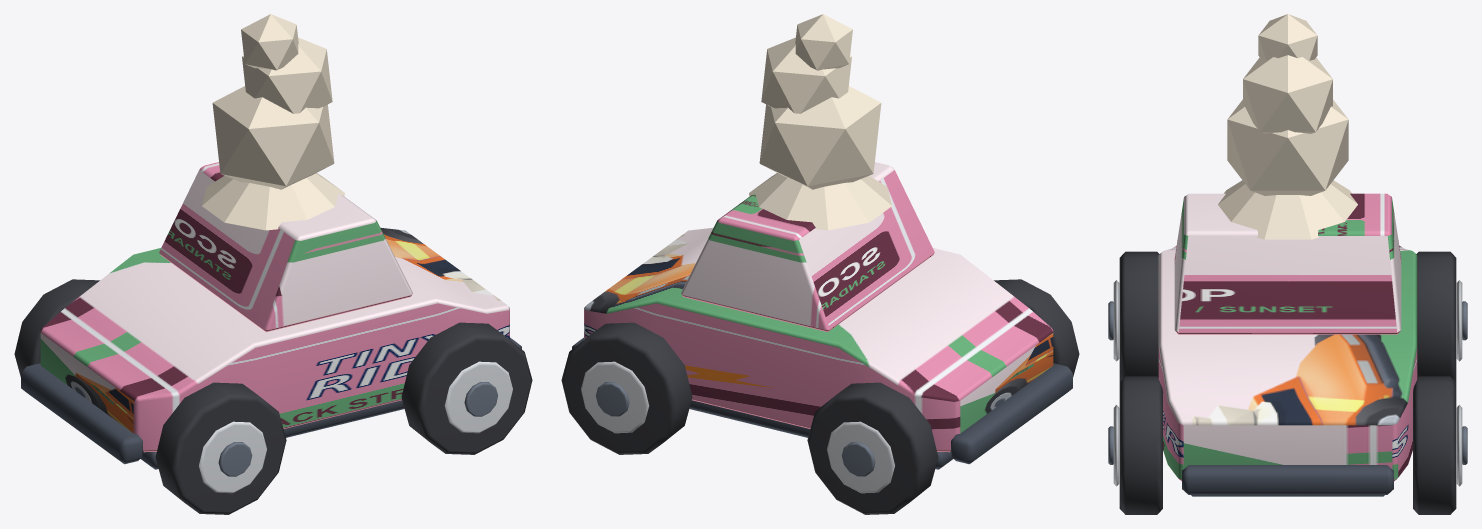
3 views of the same model, side by side, from view 1: azimuth 30°, elevation 25°; view 2: azimuth 150°, elevation 25°; view 3: azimuth 270°, elevation 25° (orthographic). The views are drawn at different scales.
Visible parts, largest first — view 1: SS-01_connected_shell, SS-01_cabin, Tire, Tire.002, ice cream swirl 1, ice cream base, front bumper, ice cream swirl 2, Rim.002, Rim, ice cream swirl 3, Tire.001 (+3 smaller); view 2: SS-01_connected_shell, SS-01_cabin, Tire.001, Tire.003, ice cream swirl 1, ice cream base, front bumper, ice cream swirl 2, Rim.003, Rim.001, ice cream swirl 3, Tire (+3 smaller); view 3: SS-01_connected_shell, SS-01_cabin, ice cream swirl 1, rear bumper, Tire.002, Tire.003, ice cream swirl 2, ice cream base, Tire, Tire.001, ice cream swirl 3, Rim.002 (+3 smaller).
Part boxes in pixels (box(x1,y1,x2,y2)): SS-01_connected_shell: box(40, 227, 509, 452); SS-01_cabin: box(159, 162, 412, 332); Tire: box(155, 382, 286, 514); Tire.002: box(401, 322, 532, 454); ice cream swirl 1: box(212, 86, 334, 189); ice cream base: box(202, 173, 344, 230); front bumper: box(21, 363, 143, 464); ice cream swirl 2: box(242, 37, 332, 113); Rim.002: box(444, 361, 512, 433); Rim: box(199, 421, 266, 493); ice cream swirl 3: box(241, 14, 298, 70); Tire.001: box(14, 279, 99, 376); SS-01_connected_shell: box(584, 227, 1053, 452); SS-01_cabin: box(681, 162, 934, 332); Tire.001: box(807, 382, 938, 514); Tire.003: box(561, 322, 692, 454); ice cream swirl 1: box(759, 86, 881, 189); ice cream base: box(749, 173, 891, 230); front bumper: box(950, 363, 1072, 464); ice cream swirl 2: box(761, 37, 851, 113); Rim.003: box(581, 361, 649, 433); Rim.001: box(827, 421, 894, 493); ice cream swirl 3: box(795, 14, 852, 70); Tire: box(994, 279, 1079, 376); SS-01_connected_shell: box(1158, 246, 1417, 481); SS-01_cabin: box(1174, 193, 1401, 334); ice cream swirl 1: box(1227, 99, 1348, 195); rear bumper: box(1182, 465, 1393, 494); Tire.002: box(1119, 376, 1162, 514); Tire.003: box(1413, 376, 1456, 514); ice cream swirl 2: box(1243, 55, 1332, 133); ice cream base: box(1218, 180, 1357, 239); Tire: box(1119, 251, 1159, 381); Tire.001: box(1416, 251, 1456, 381); ice cream swirl 3: box(1258, 14, 1317, 60); Rim.002: box(1113, 405, 1119, 486).
Size of the model in its own units: 293 by 287 by 217.
